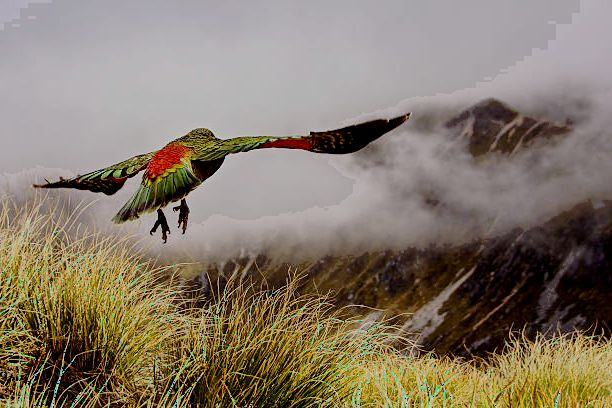Bird: (29, 107, 412, 246)
